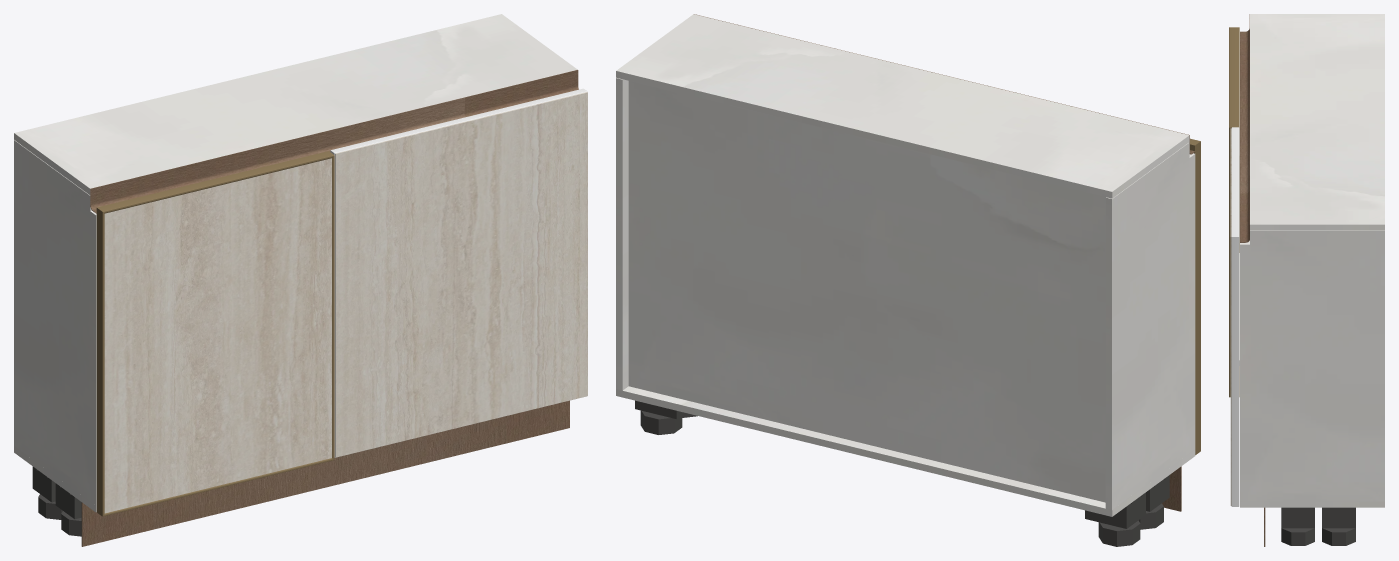
The model's file is BBL-SH-CJ-ST-1SX-RHS-XXX-1150-720-336-15.glb.
3 renders of one model, left to right at view 1: azimuth 30°, elevation 25°; view 2: azimuth 150°, elevation 25°; view 3: azimuth 270°, elevation 25°, orthographic. The views are drawn at different scales.
Parts seen in each view (by area): view 1: TP_node_3, Object_node_11, TP_node_1, TP_node, Object_node_13, ExtrSplGeo, Extrusion_node_1, Extrusion, ALU PROF FOR SHUTTER 851P IMP_node_1, Extrusion_node, Extrusion_node_0; view 2: TP_node_4, TP_node_1, TP_node, TP, TP_node_0, Extrusion_node_1, Plate, Foot, Foot_node; view 3: TP_node_0, TP_node_1, ALU PROF FOR SHUTTER 851P IMP, ExtrSplGeo, Extrusion, TP, ALU PROF FOR SHUTTER 851P IMP_node_1, TP_node_3, Plate_node, Plate_node_1, Extrusion_node, Foot_node (+2 smaller).
Boxes of the visible parts, x1=… form: TP_node_3: x1=335, y1=92, x2=587, y2=457; Object_node_11: x1=104, y1=158, x2=331, y2=513; TP_node_1: x1=14, y1=14, x2=577, y2=194; TP_node: x1=14, y1=140, x2=96, y2=505; Object_node_13: x1=81, y1=400, x2=569, y2=546; ExtrSplGeo: x1=90, y1=70, x2=578, y2=213; Extrusion_node_1: x1=96, y1=208, x2=104, y2=516; Extrusion: x1=97, y1=151, x2=334, y2=213; ALU PROF FOR SHUTTER 851P IMP_node_1: x1=331, y1=88, x2=587, y2=153; Extrusion_node: x1=332, y1=156, x2=334, y2=459; Extrusion_node_0: x1=103, y1=458, x2=334, y2=516; TP_node_4: x1=628, y1=81, x2=1105, y2=502; TP_node_1: x1=616, y1=14, x2=1189, y2=198; TP_node: x1=1105, y1=142, x2=1195, y2=509; TP: x1=616, y1=386, x2=1195, y2=516; TP_node_0: x1=616, y1=78, x2=628, y2=390; Extrusion_node_1: x1=1190, y1=141, x2=1200, y2=454; Plate: x1=1085, y1=492, x2=1145, y2=528; Foot: x1=1098, y1=520, x2=1140, y2=546; Foot_node: x1=640, y1=410, x2=682, y2=434; TP_node_0: x1=1240, y1=230, x2=1384, y2=501; TP_node_1: x1=1250, y1=14, x2=1384, y2=230; ALU PROF FOR SHUTTER 851P IMP: x1=1231, y1=237, x2=1239, y2=506; ExtrSplGeo: x1=1240, y1=14, x2=1249, y2=242; Extrusion: x1=1229, y1=27, x2=1239, y2=127; TP: x1=1240, y1=501, x2=1384, y2=507; ALU PROF FOR SHUTTER 851P IMP_node_1: x1=1231, y1=127, x2=1239, y2=236; TP_node_3: x1=1230, y1=128, x2=1231, y2=505; Plate_node: x1=1322, y1=507, x2=1355, y2=528; Plate_node_1: x1=1281, y1=507, x2=1314, y2=528; Extrusion_node: x1=1229, y1=127, x2=1239, y2=397; Foot_node: x1=1322, y1=528, x2=1355, y2=545.
Size of what is drawn, in the model's own units: 1.15 by 0.82 by 0.3594.
Materials: 7 (3 with a texture image).
